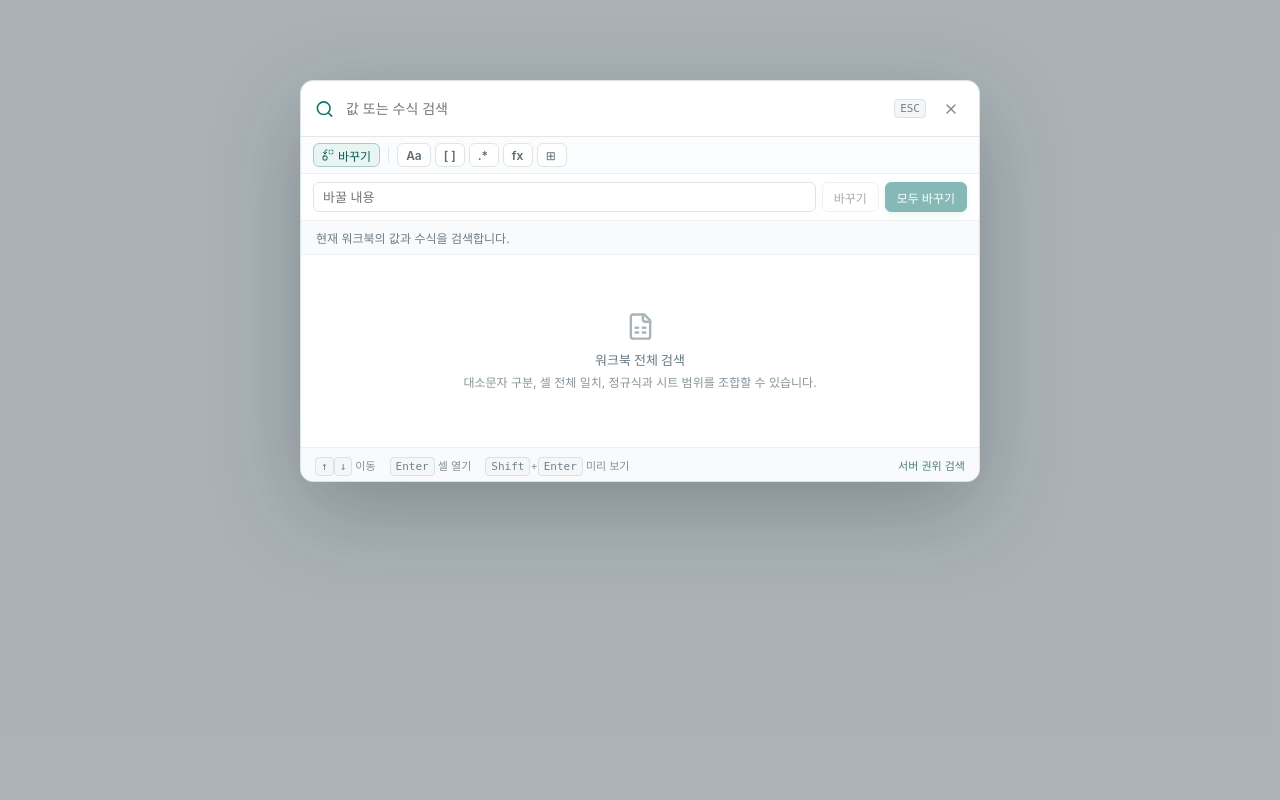
Test: WorkbookSearchDialog 찾기 및 바꾸기 › previews then applies a replacement and reports the count
Step 1. Type "구 사명" into the field named "검색어" → (614, 108), box [344, 99, 884, 118]
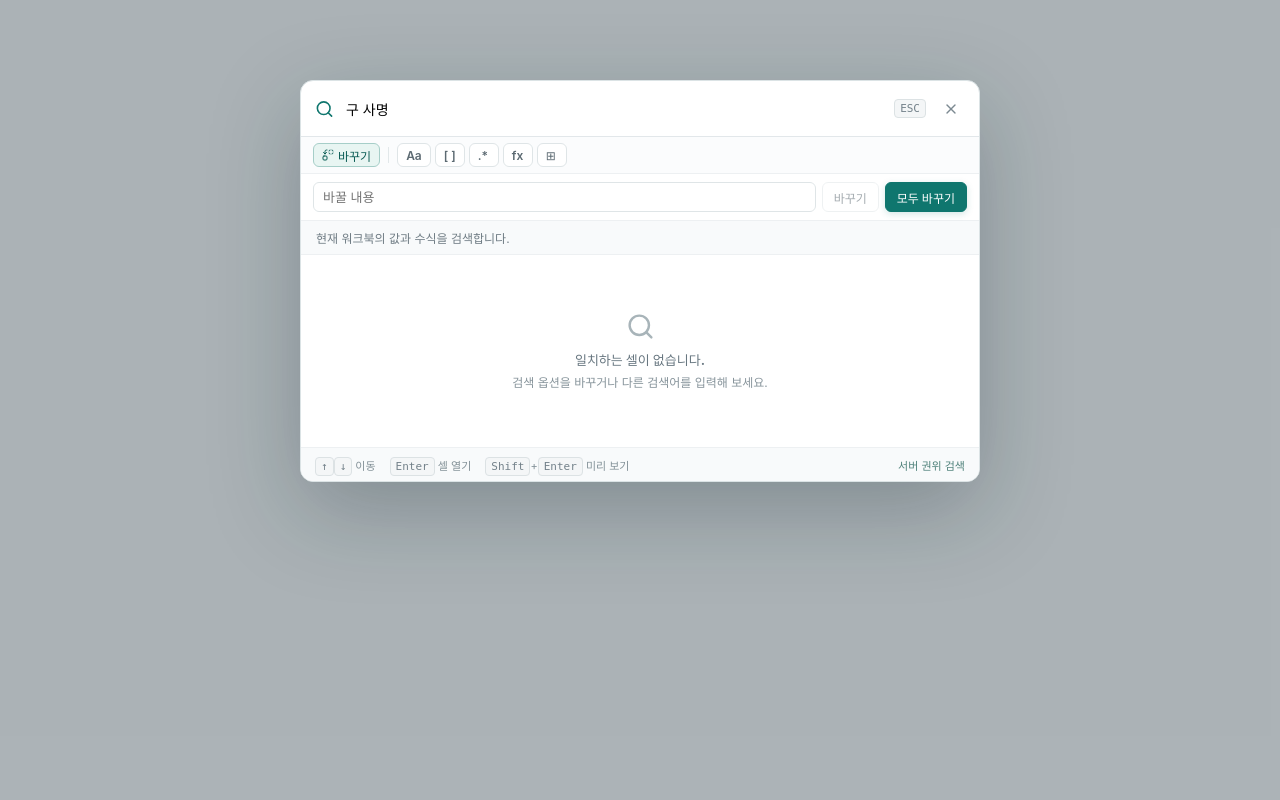
Step 2. Type "새 사명" into the field labelled "바꿀 내용" → (564, 197), box [313, 182, 816, 212]
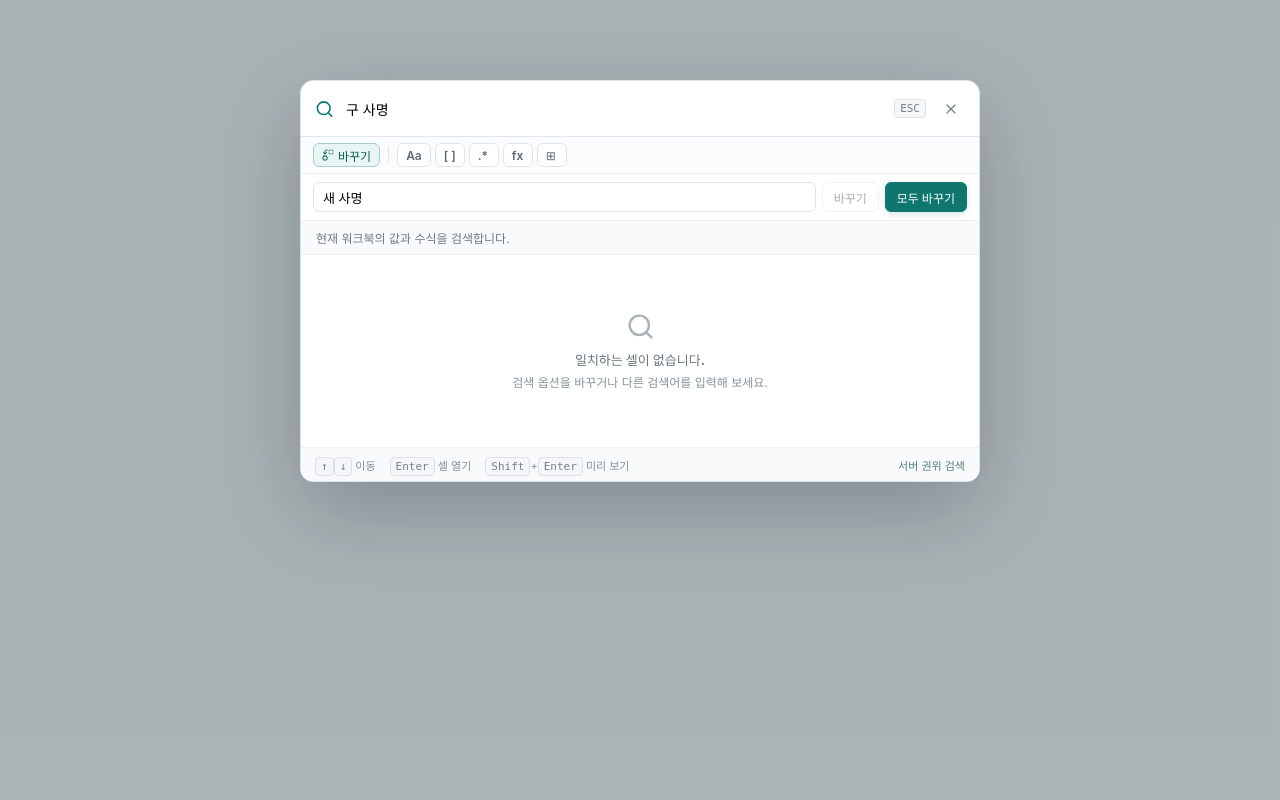
Step 3. Click the button "모두 바꾸기" → click(926, 197), box [885, 182, 967, 212]
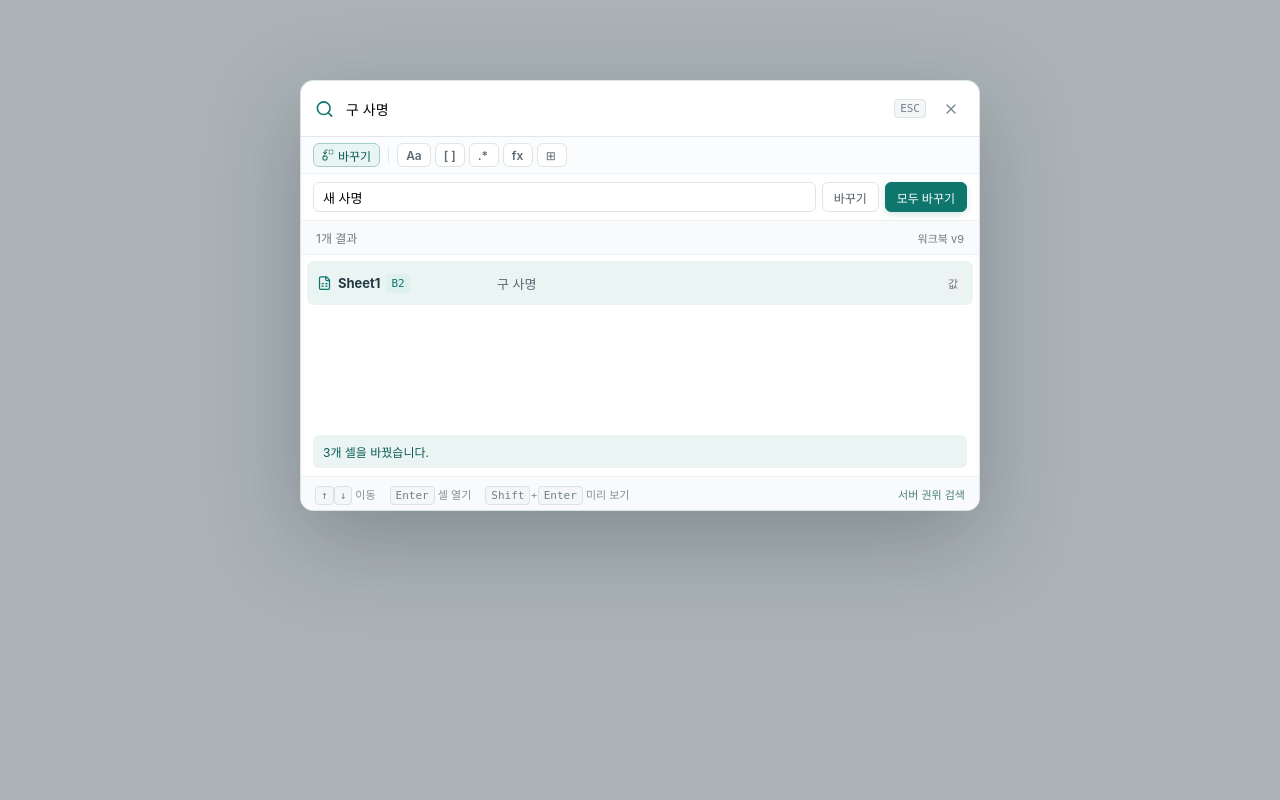
Check: the message reads "3개 셀을 바꿨습니다.", box [323, 445, 429, 460]
